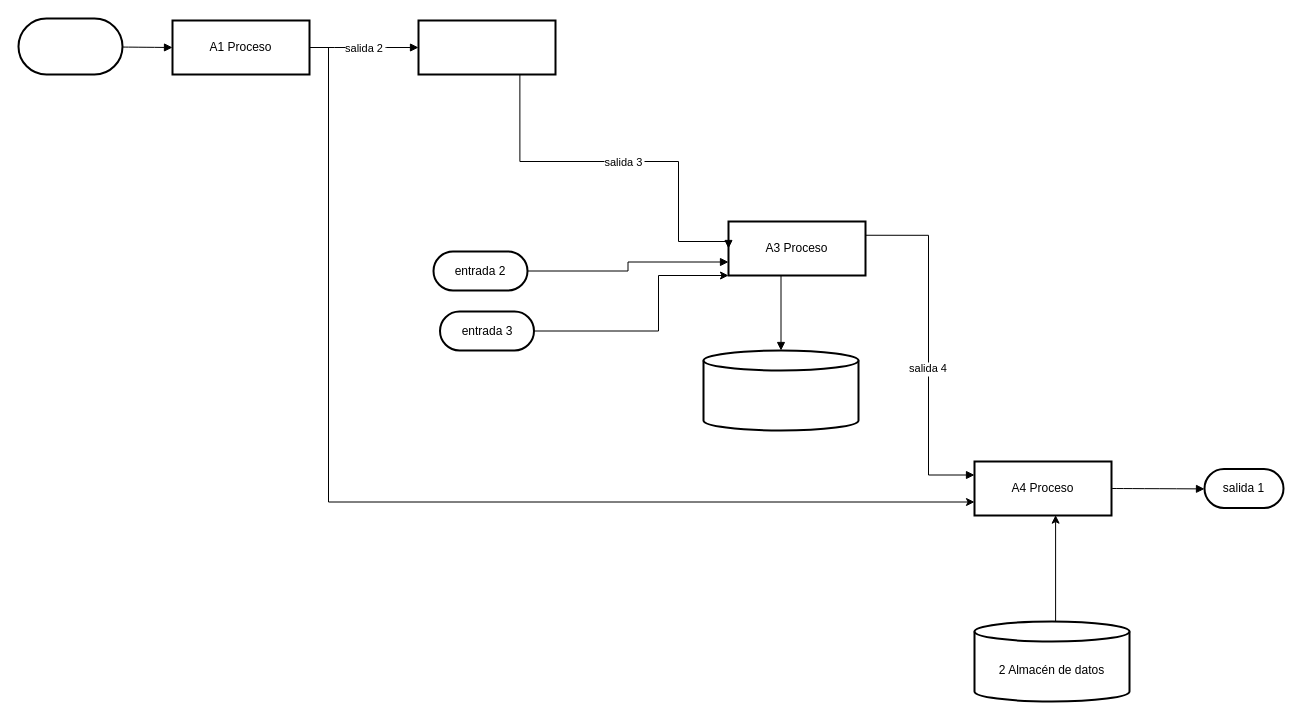
This 1301x719 diagram has some shape labels left out. The centre of each missing label's shape, as x and y in pixels:
1 Almacén de datos: the point at 780,390
A2 Proceso: the point at 486,47
Datos personales del cliente: the point at 70,46
